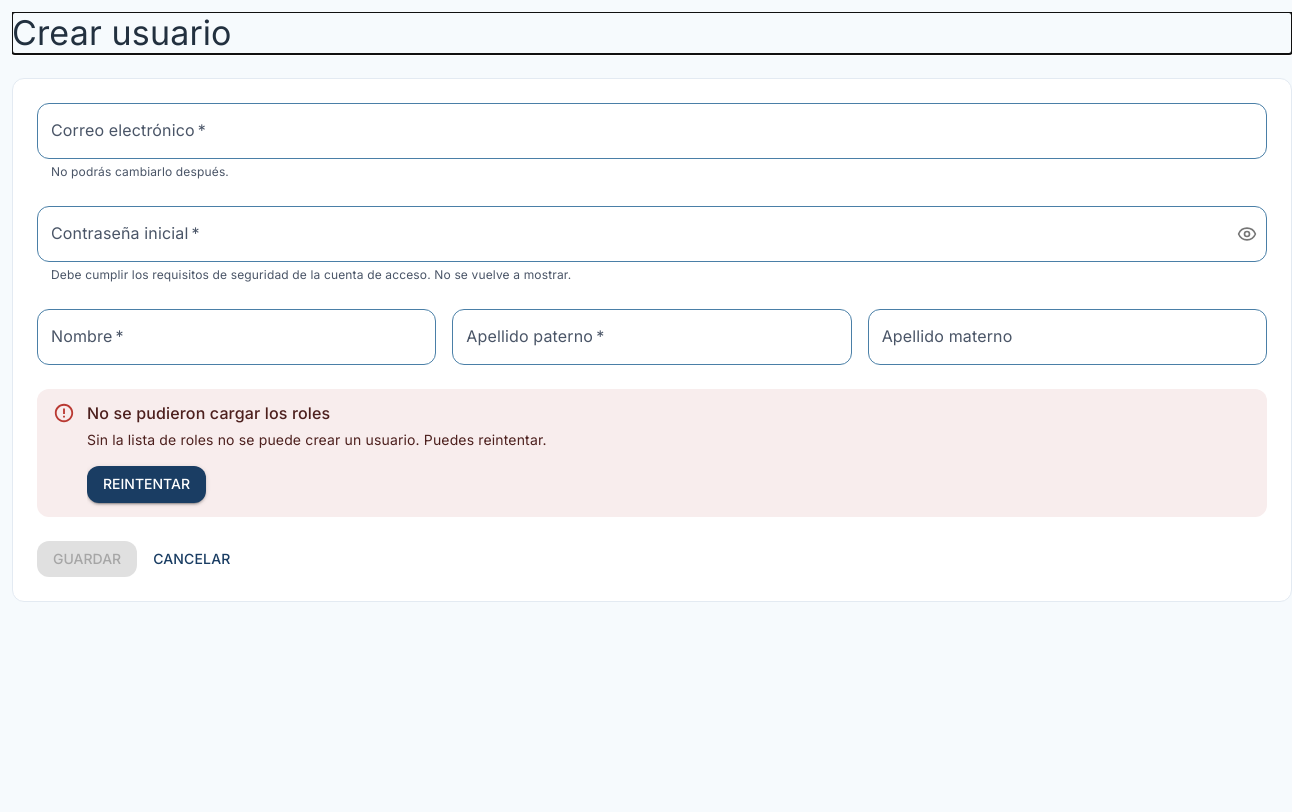
Test: UserCreatePage: the form › the catalog of roles › shows the error with a retry, and the form cannot be saved until it loads
expect the text "No se pudieron cargar los roles" is shown: met, box left=87, top=403, right=330, bottom=423
Click the button "Reintentar" at {"x": 146, "y": 485}, box left=87, top=466, right=206, bottom=503
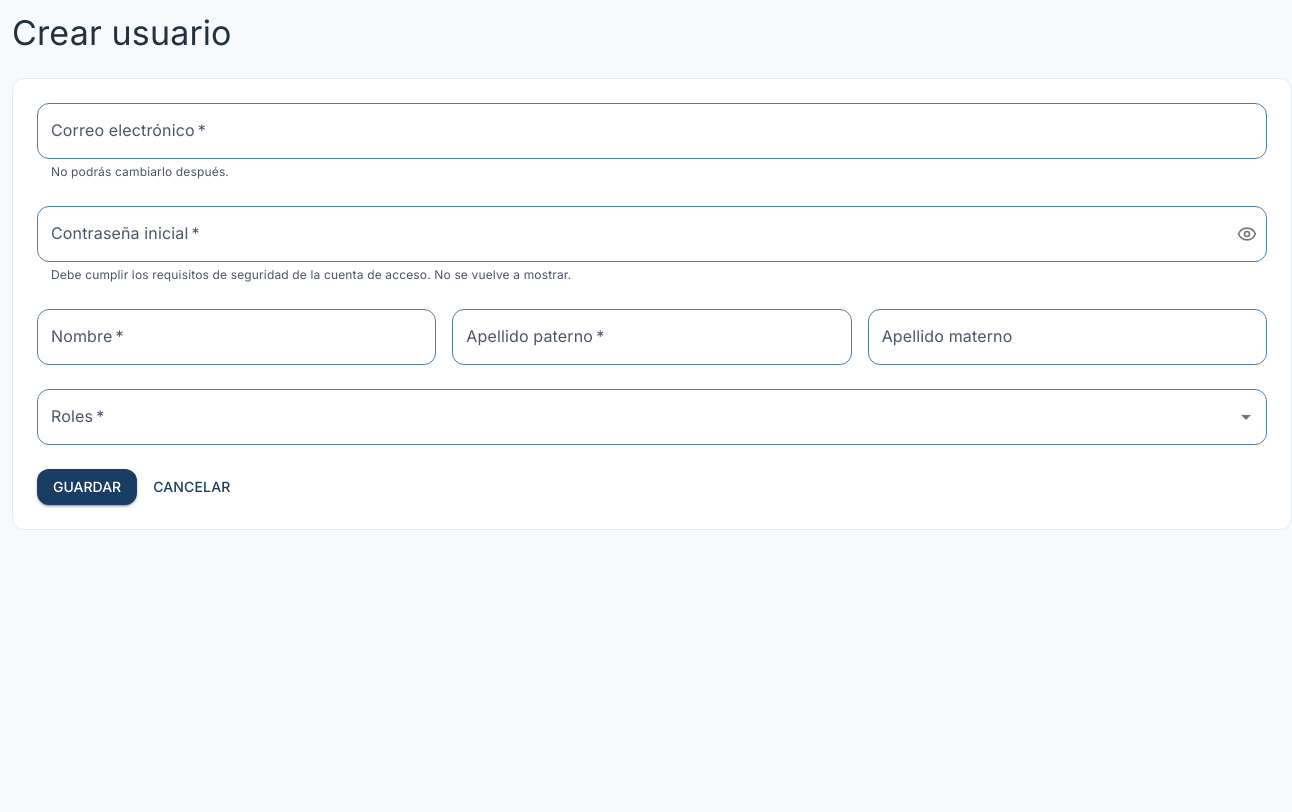
expect the dropdown labelled "Roles *" is enabled: met, box left=46, top=398, right=1228, bottom=436
